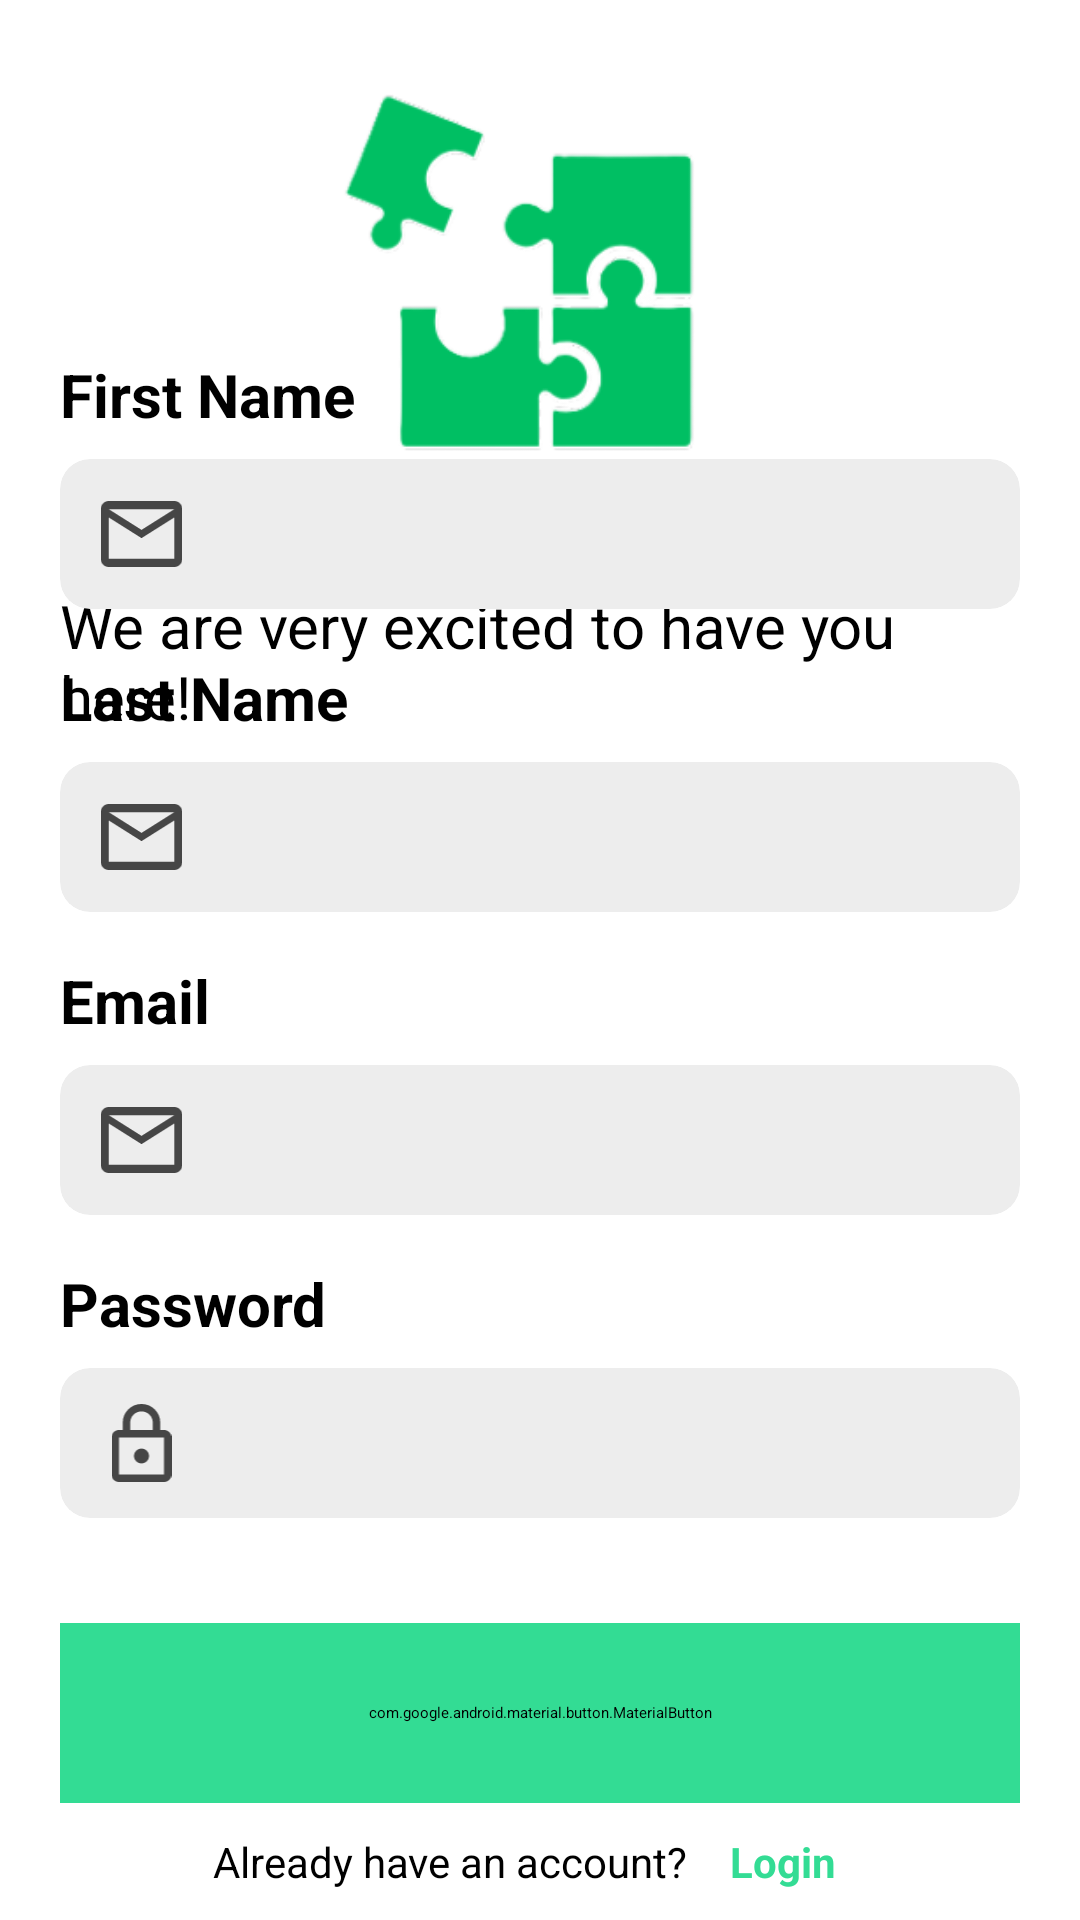

Icon click points for this 1080 × 1920 phone screenshot, format point (x, y):
lock: point (142, 1443)
